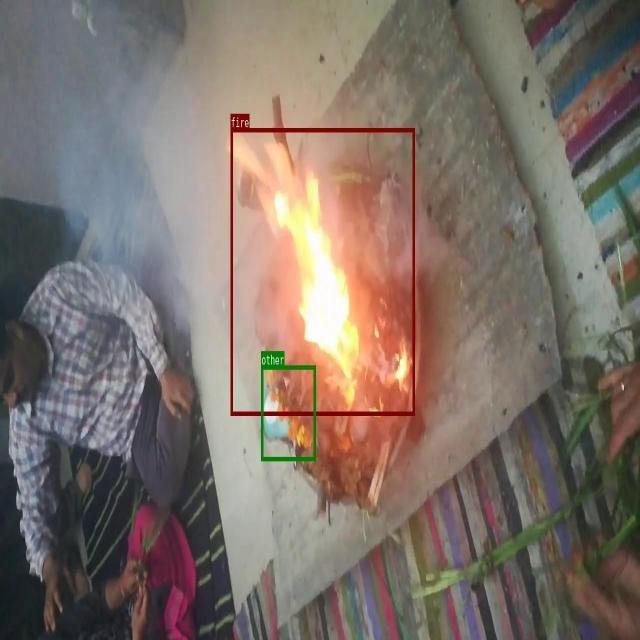fire: (230, 128, 414, 415)
